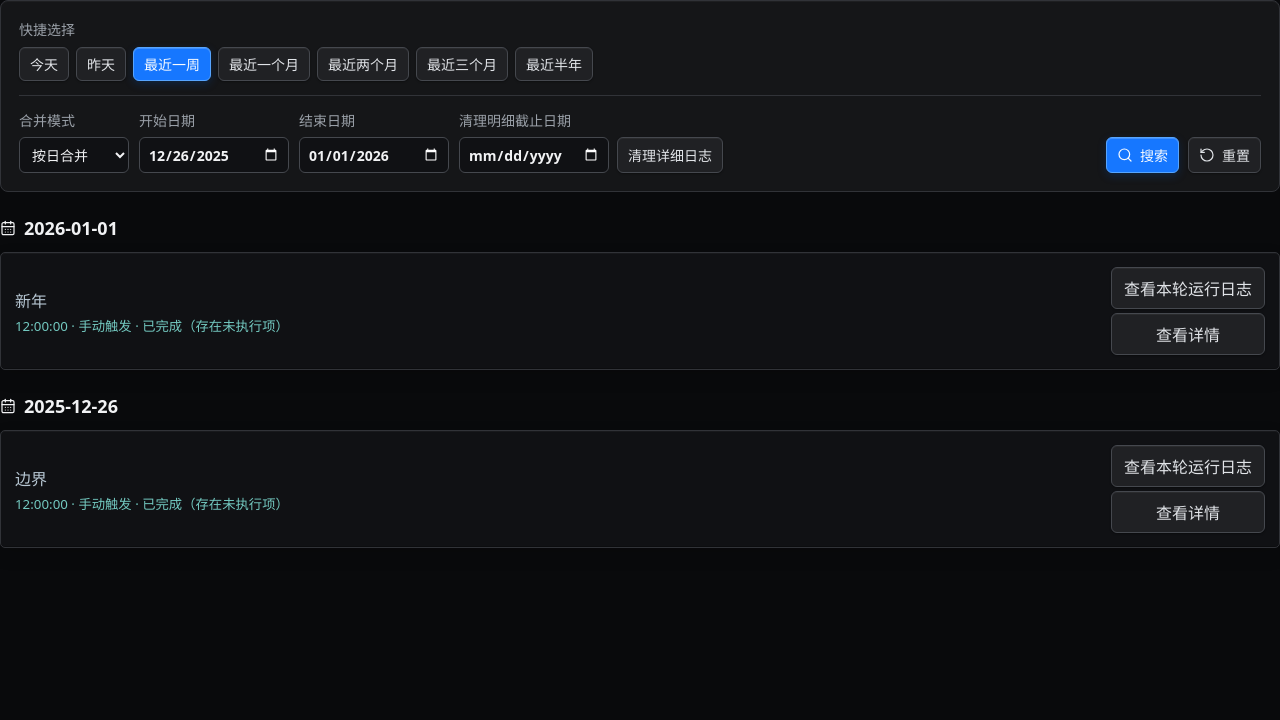
it: previews and cancels cleanup, then confirms without deleting records
In the date field named "清理明细截止日期": (534, 155) [459,137,609,173], type "2025-12-31"
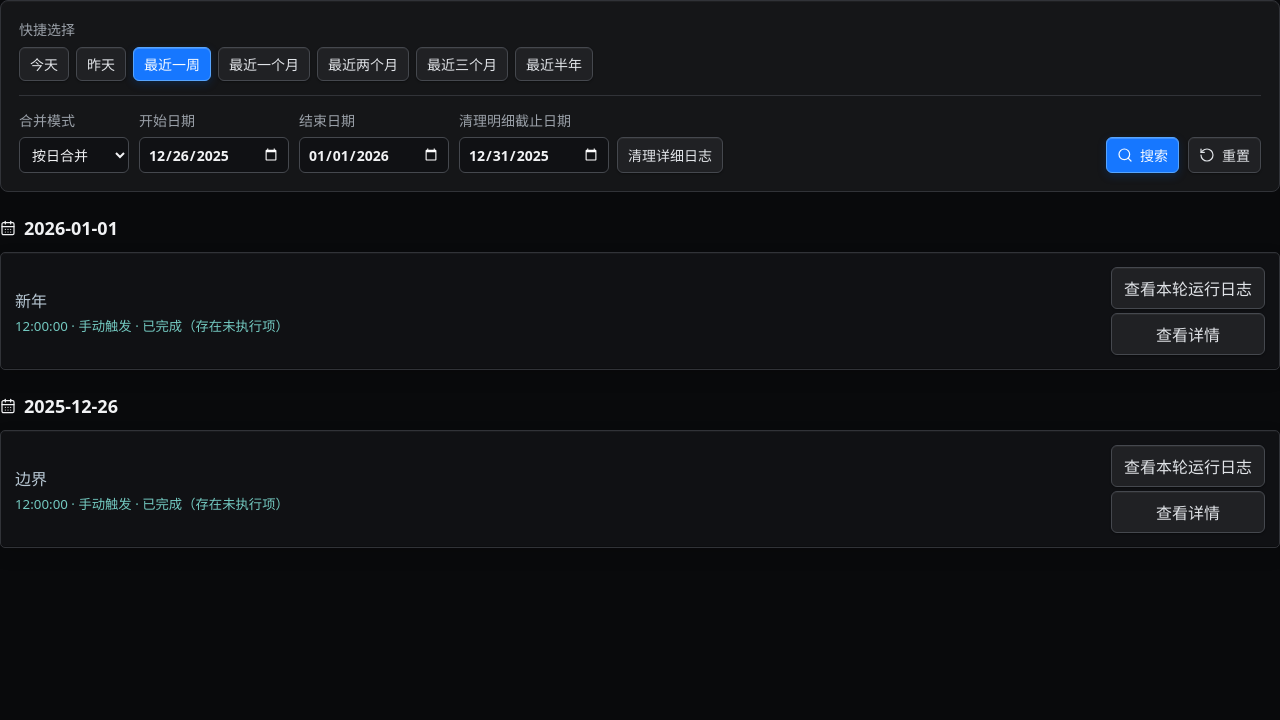
Click the button "清理详细日志": (670, 155) [617,137,723,173]
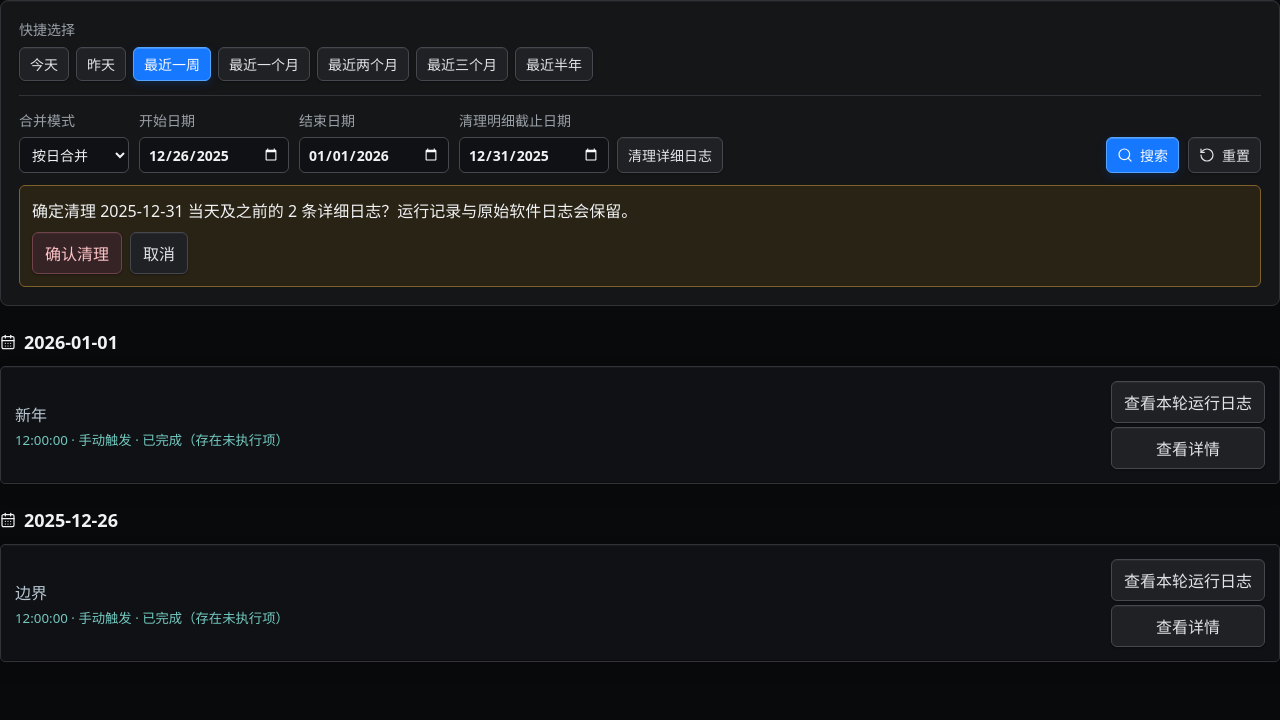
Expected: the dialog shows "2 条", [19,185,1261,287]
Click the button "取消": (159, 253) [130,232,188,274]
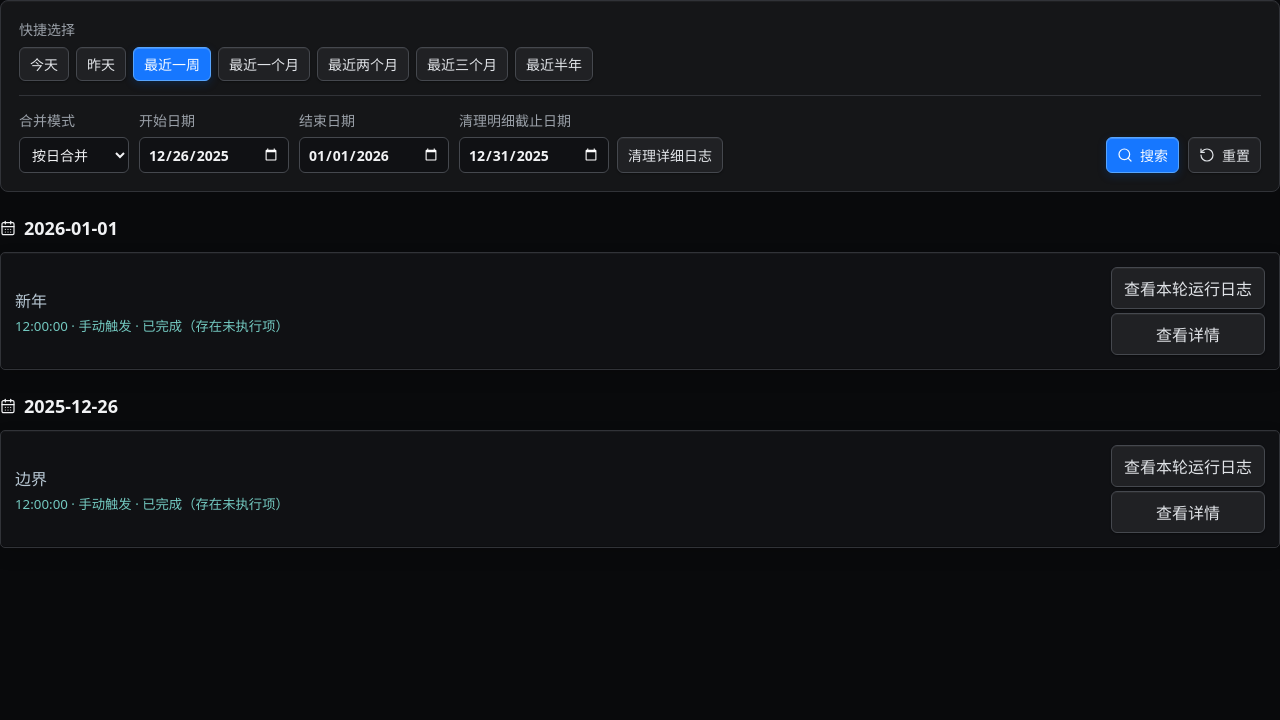
Click the button "清理详细日志": (670, 155) [617,137,723,173]
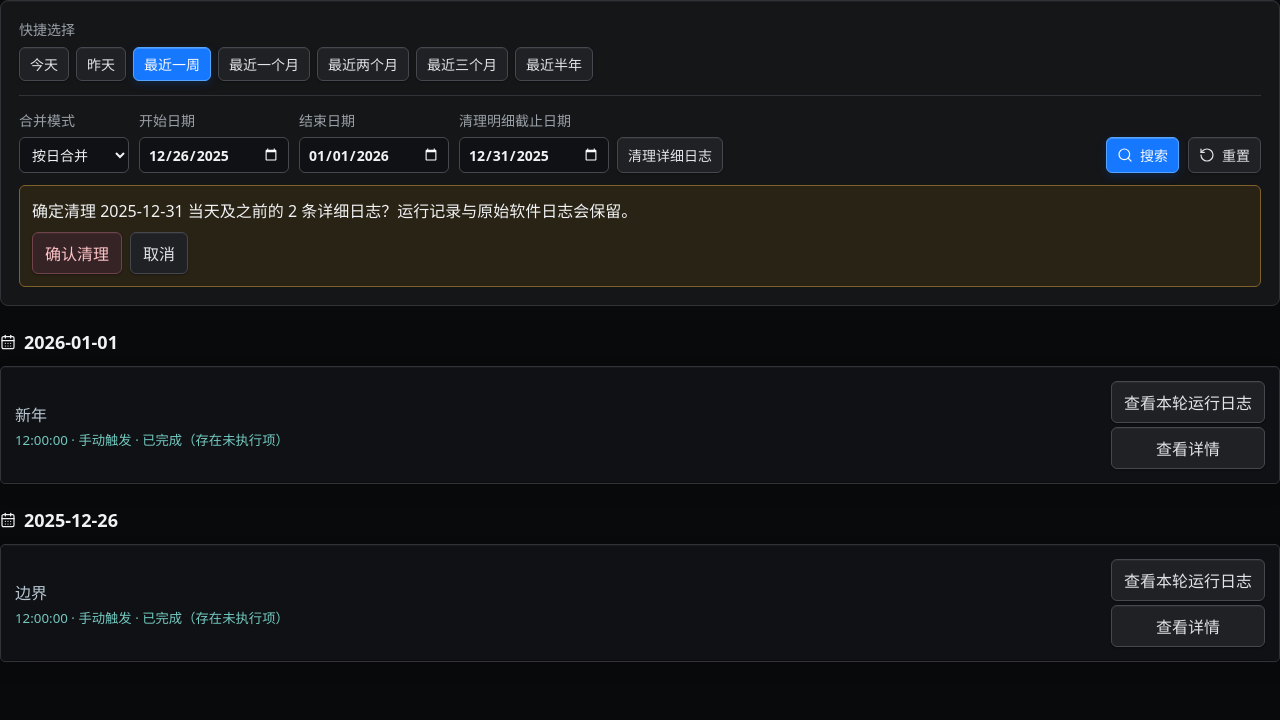
Click the button "确认清理": (77, 253) [32,232,122,274]
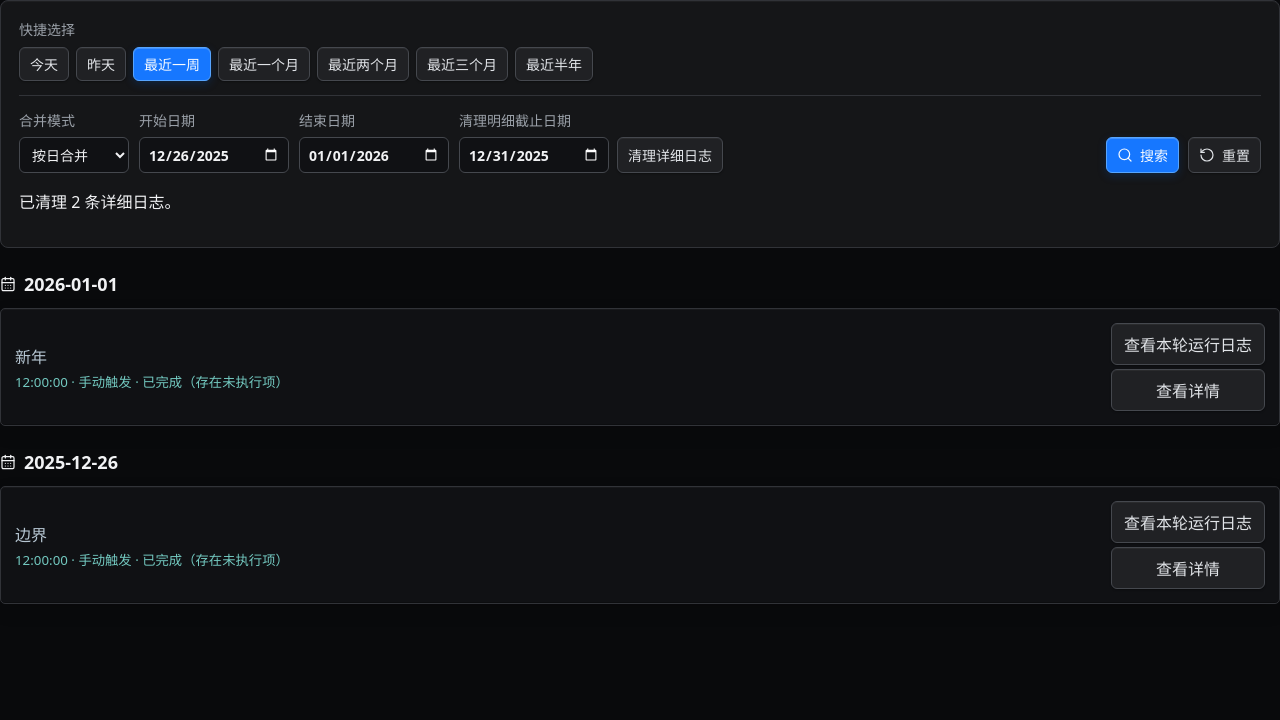
Expected: the text "已清理 2 条详细日志" is shown, [19,191,180,213]
